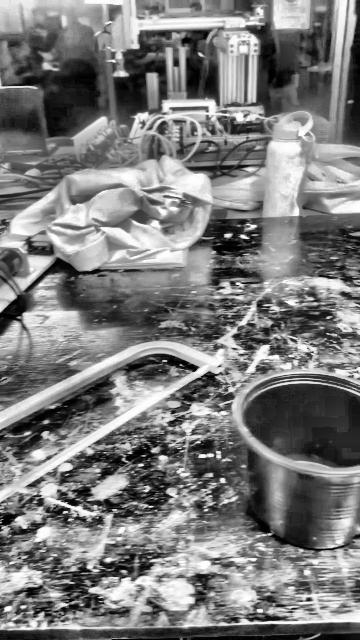pot: (235, 371, 360, 550)
